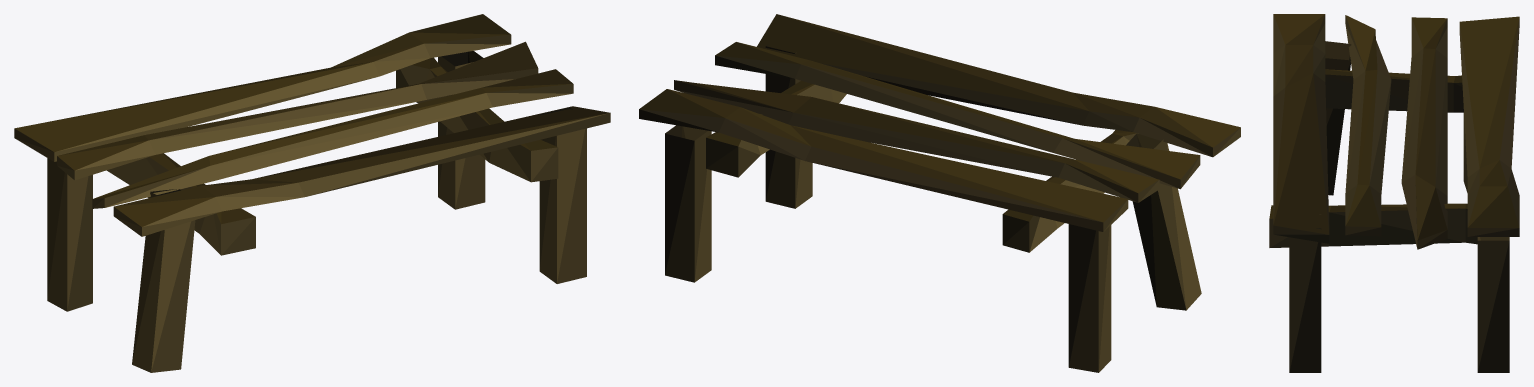
The model's file is Object_Table_2022-04-29_01-46-46.obj.
3 views of the same model, side by side, from view 1: azimuth 30°, elevation 25°; view 2: azimuth 150°, elevation 25°; view 3: azimuth 270°, elevation 25° (orthographic). The views are drawn at different scales.
Visible parts, largest first — view 1: Object_Table_2022-04-29_01-46-46.obj; view 2: Object_Table_2022-04-29_01-46-46.obj; view 3: Object_Table_2022-04-29_01-46-46.obj.
Part boxes in pixels (bbox=[...]): Object_Table_2022-04-29_01-46-46.obj: bbox=[14, 14, 610, 372]; Object_Table_2022-04-29_01-46-46.obj: bbox=[639, 14, 1240, 372]; Object_Table_2022-04-29_01-46-46.obj: bbox=[1269, 14, 1519, 372].
Size of the model in its own units: 255 by 90 by 125.
